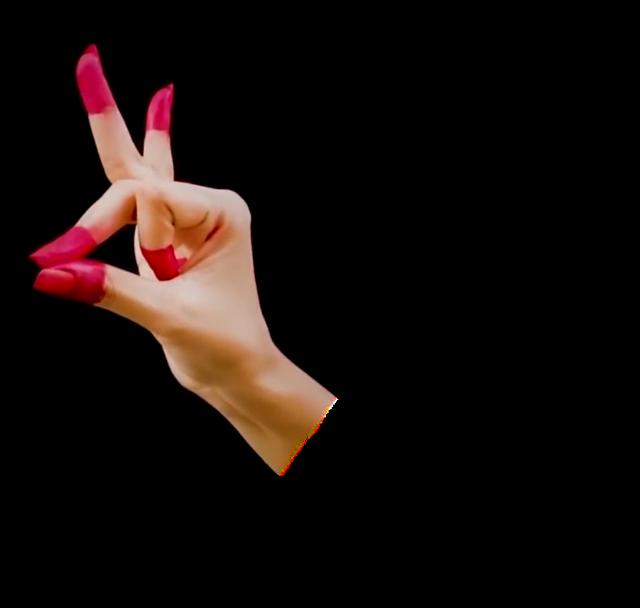bhramara: (31, 47, 342, 481)
